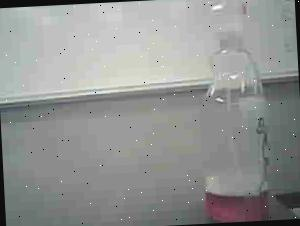hazard: (189, 0, 281, 223)
